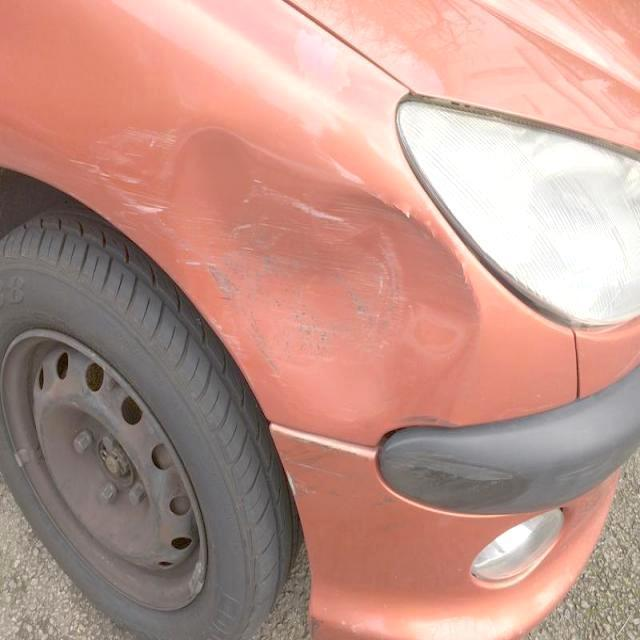minor: (290, 467, 318, 527)
moderate: (100, 87, 486, 441)
